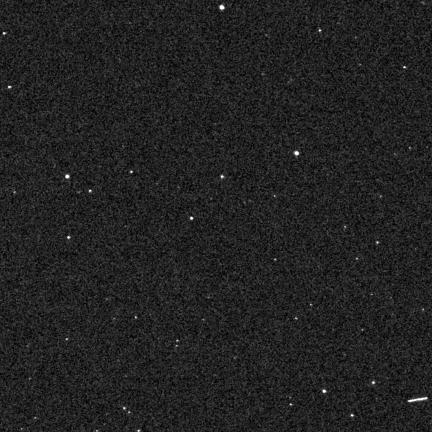blob: (294, 151, 299, 156), (220, 5, 224, 10), (89, 190, 93, 194), (3, 32, 7, 36), (190, 217, 194, 221), (8, 86, 12, 90), (65, 175, 70, 178), (323, 389, 326, 393), (221, 175, 224, 178), (130, 171, 133, 173), (68, 236, 70, 239)
